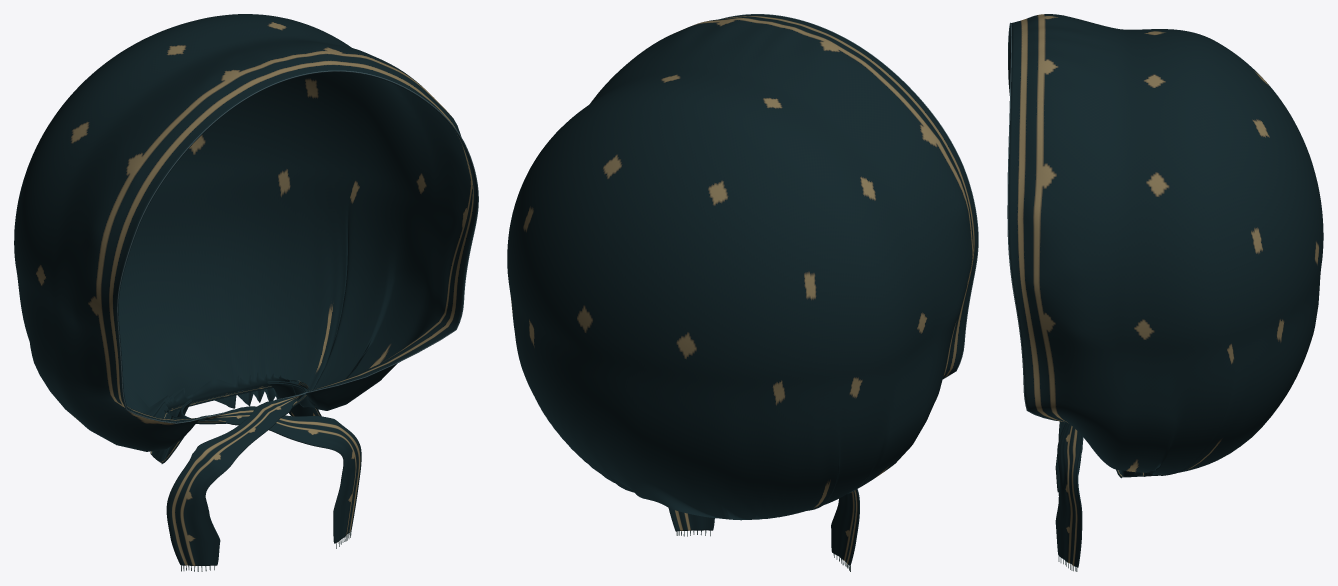
File: Masculine-afro-pashmina251-headgear.glb
3 views of the same model, side by side, from view 1: azimuth 30°, elevation 25°; view 2: azimuth 150°, elevation 25°; view 3: azimuth 270°, elevation 25° (orthographic). The views are drawn at different scales.
Visible parts, largest first — view 1: 226 headgear / Headwear / continuous woven pashmina239.002, 226 headgear / Headwear / face edge239.002; view 2: 226 headgear / Headwear / continuous woven pashmina239.002, 226 headgear / Headwear / face edge239.002; view 3: 226 headgear / Headwear / continuous woven pashmina239.002, 226 headgear / Headwear / face edge239.002.
Part boxes in pixels (bbox=[...]): 226 headgear / Headwear / continuous woven pashmina239.002: bbox=[14, 14, 477, 565]; 226 headgear / Headwear / face edge239.002: bbox=[117, 70, 478, 423]; 226 headgear / Headwear / continuous woven pashmina239.002: bbox=[507, 14, 977, 566]; 226 headgear / Headwear / face edge239.002: bbox=[720, 14, 978, 379]; 226 headgear / Headwear / continuous woven pashmina239.002: bbox=[1008, 14, 1323, 567]; 226 headgear / Headwear / face edge239.002: bbox=[1007, 22, 1057, 420].
Bounding box in the file's own units: 1.14 × 1.45 × 0.833.
Materials: 3 (1 with a texture image).
